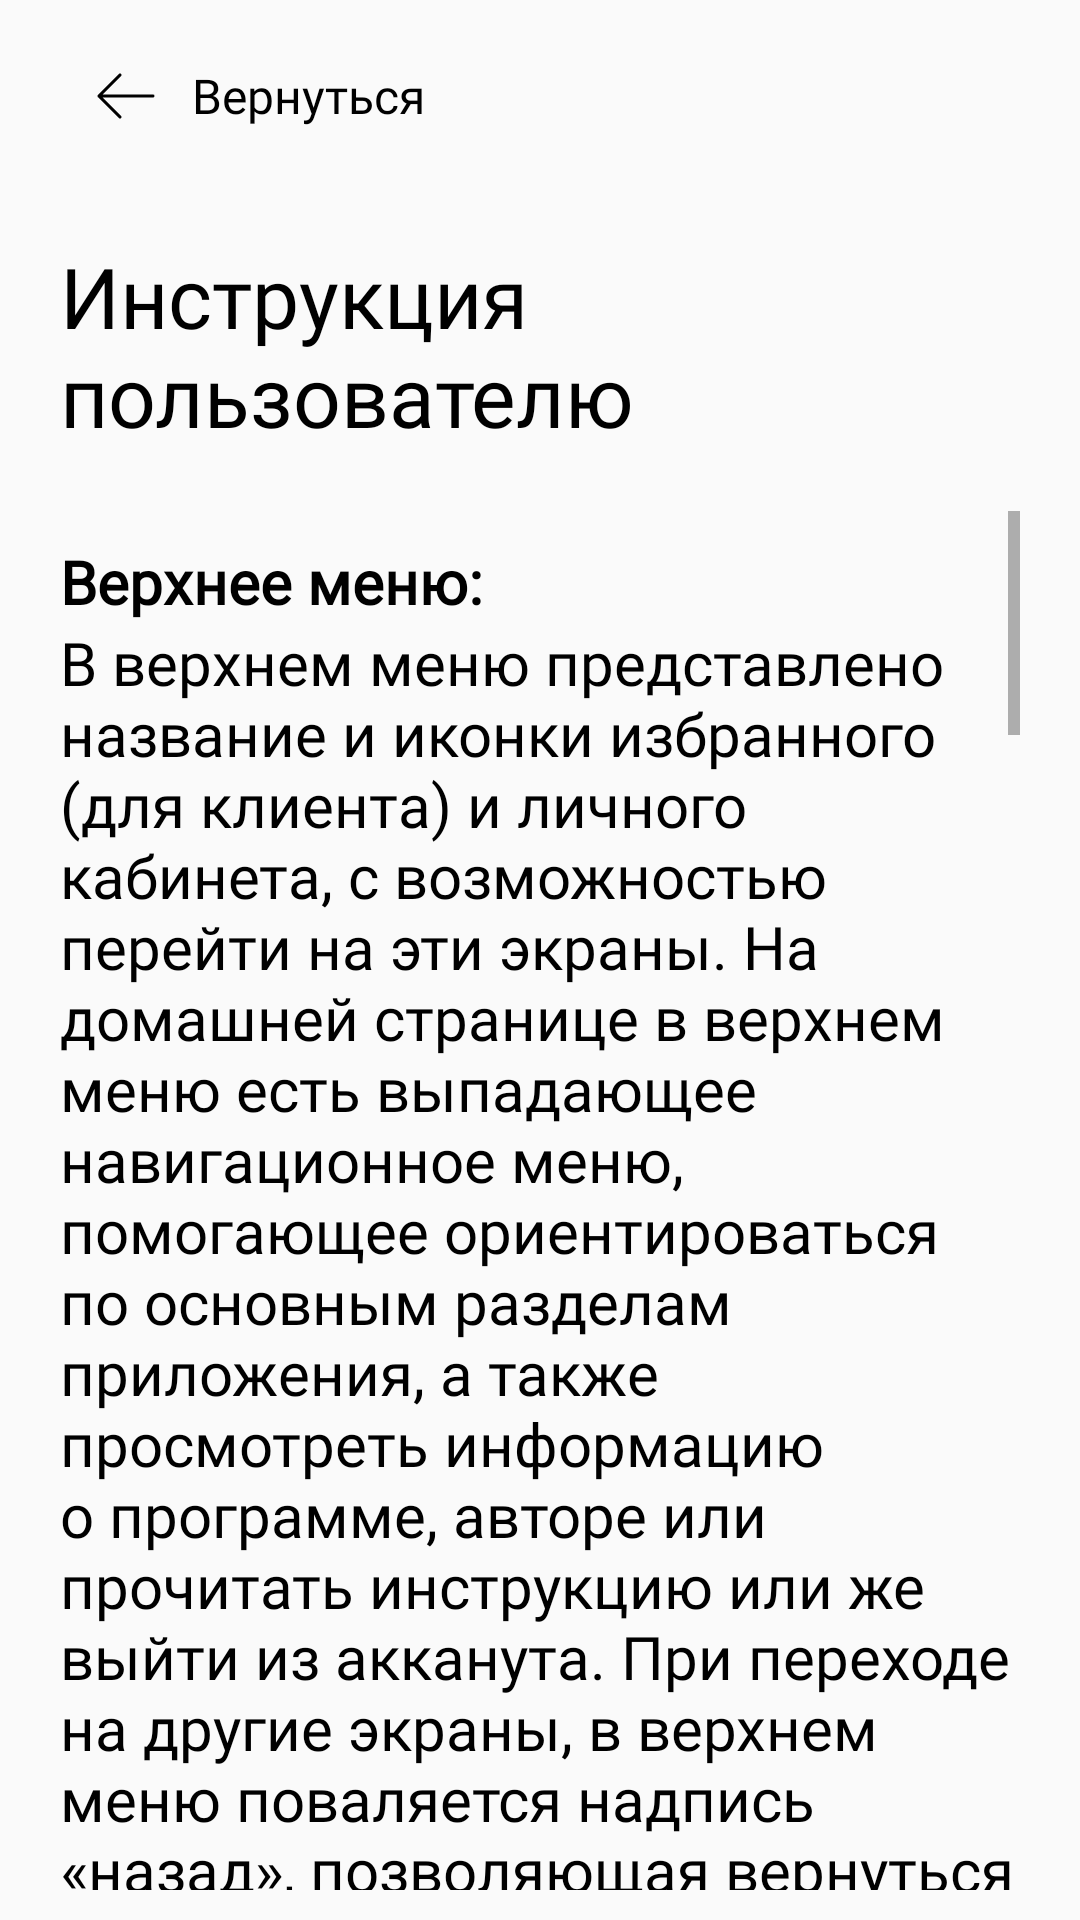

Named icons in this screenshot (1080×1920) and their bounding boxes, (x1, y1, x2, y2):
arrow left: (97, 73, 155, 119)
